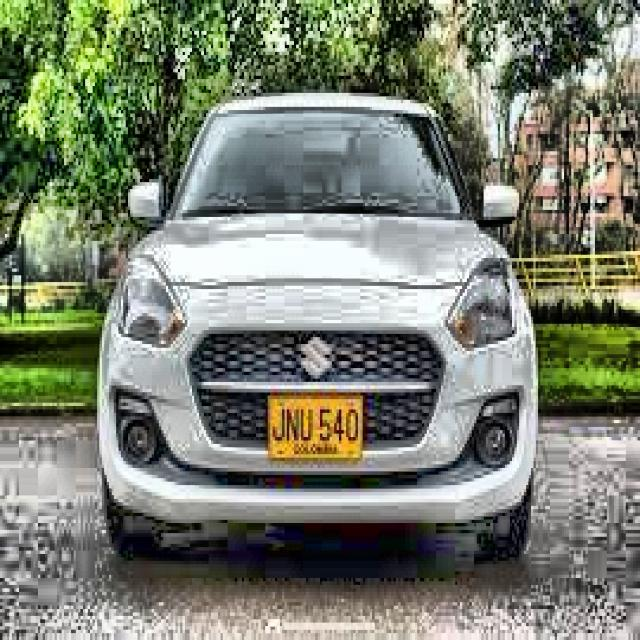plate: (268, 396, 362, 460)
